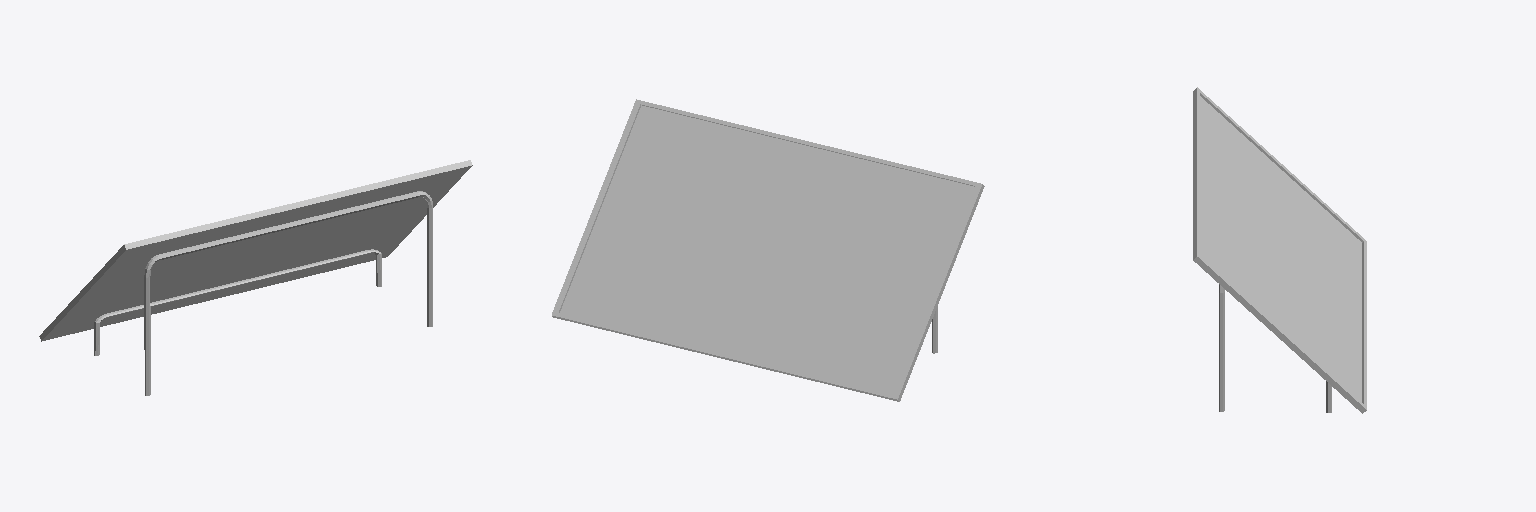
The model's file is Solar Panel.obj.
The picture shows the model from 3 angles: view 1: azimuth 30°, elevation 25°; view 2: azimuth 150°, elevation 25°; view 3: azimuth 270°, elevation 25°; orthographic projection.
Parts seen in each view (by area): view 1: solar_panel_Plane.011; view 2: solar_panel_Plane.011; view 3: solar_panel_Plane.011.
Boxes of the visible parts, <box> form: solar_panel_Plane.011: <box>39,160,472,395</box>; solar_panel_Plane.011: <box>552,99,984,401</box>; solar_panel_Plane.011: <box>1193,87,1366,413</box>.
Size of the model in its own units: 1.65 by 0.7667 by 0.7184.